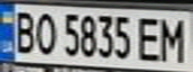3: (97, 11, 118, 60)
5: (112, 12, 136, 61), (57, 10, 81, 57)
8: (78, 11, 96, 58)
B: (9, 7, 39, 55)
E: (133, 14, 166, 63)
M: (157, 15, 190, 63)
O: (30, 8, 57, 56)
